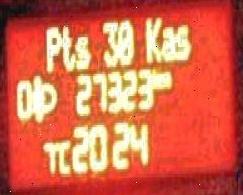0: (88, 122, 107, 171), (118, 16, 134, 65), (15, 76, 31, 118)
2: (111, 120, 129, 169), (70, 122, 86, 173), (74, 71, 90, 116), (121, 64, 136, 111)
3: (100, 18, 117, 64), (138, 64, 153, 109), (106, 67, 121, 111)
4: (130, 120, 147, 164)
7: (91, 67, 106, 111), (41, 138, 54, 173)
X: (144, 13, 160, 62), (44, 22, 60, 69), (60, 20, 75, 69), (75, 29, 90, 71), (161, 22, 176, 60), (176, 20, 190, 60), (57, 136, 70, 176), (160, 67, 171, 89), (150, 67, 160, 87)
